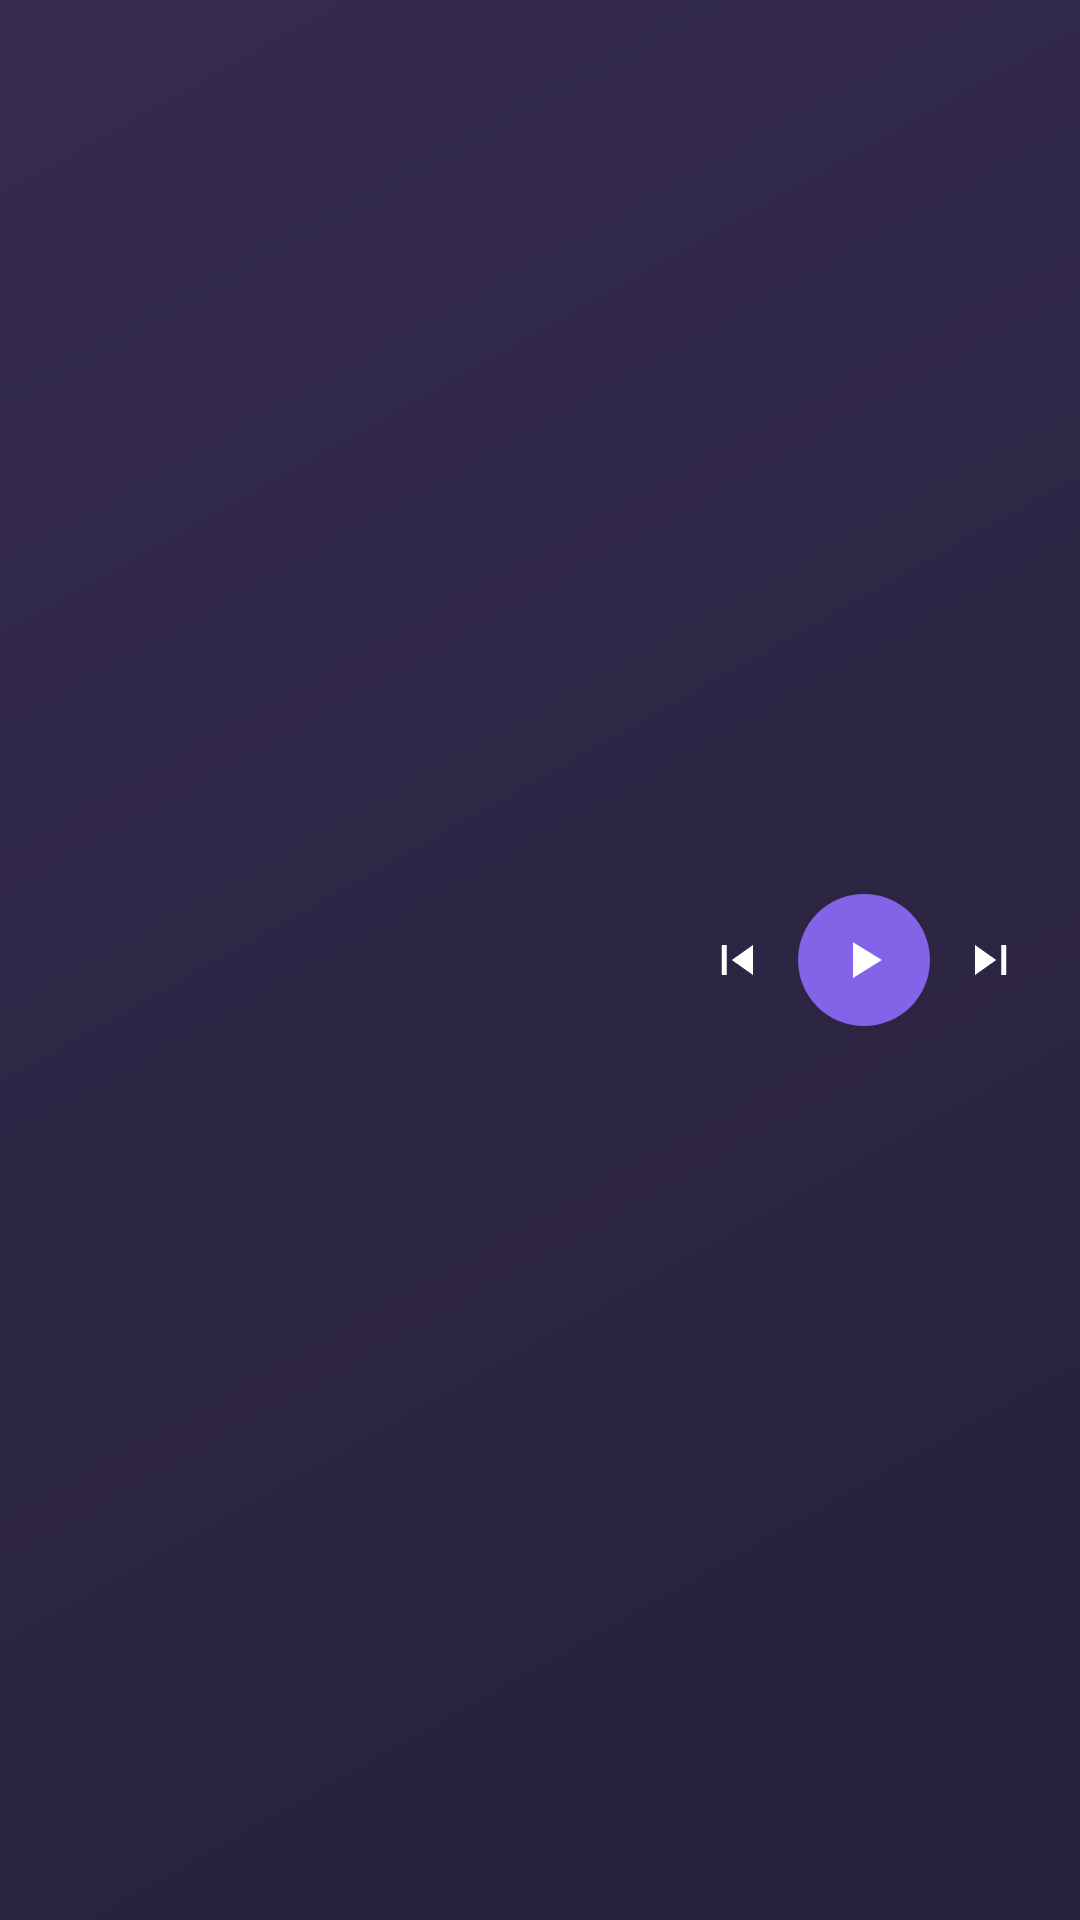

Icons on this 1080*1920 Android screen, each with the point to tap as [x,y]:
Next: [991,960]
Play: [864,960]
Previous: [737,960]
